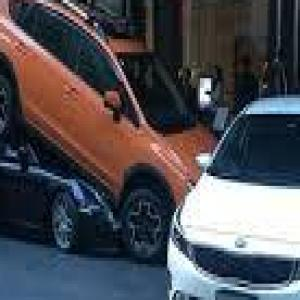serious: (0, 0, 222, 261)
